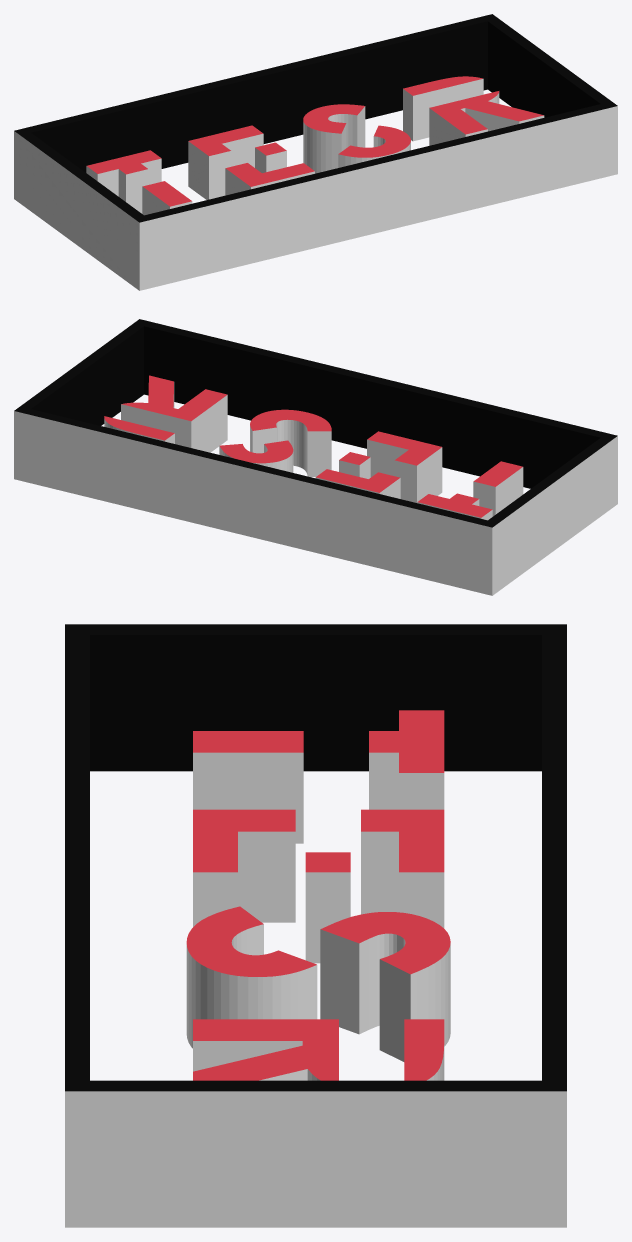
The model's file is tesr_lab.dae.
The picture shows the model from 3 angles, top to bottom: view 1: azimuth 30°, elevation 25°; view 2: azimuth 150°, elevation 25°; view 3: azimuth 270°, elevation 25°; orthographic projection. The views are drawn at different scales.
Visible parts, largest first — view 1: tesr_lab; view 2: tesr_lab; view 3: tesr_lab.
Boxes of the visible parts, box(x1,y1,x2,y2) form: tesr_lab: box(14, 14, 617, 290); tesr_lab: box(14, 319, 617, 595); tesr_lab: box(65, 624, 566, 1227).
Size of the model in its own units: 11 by 5 by 1.5.
